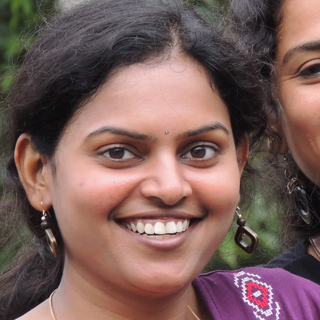eye: (92, 140, 144, 165), (176, 138, 223, 165), (296, 55, 320, 82)
